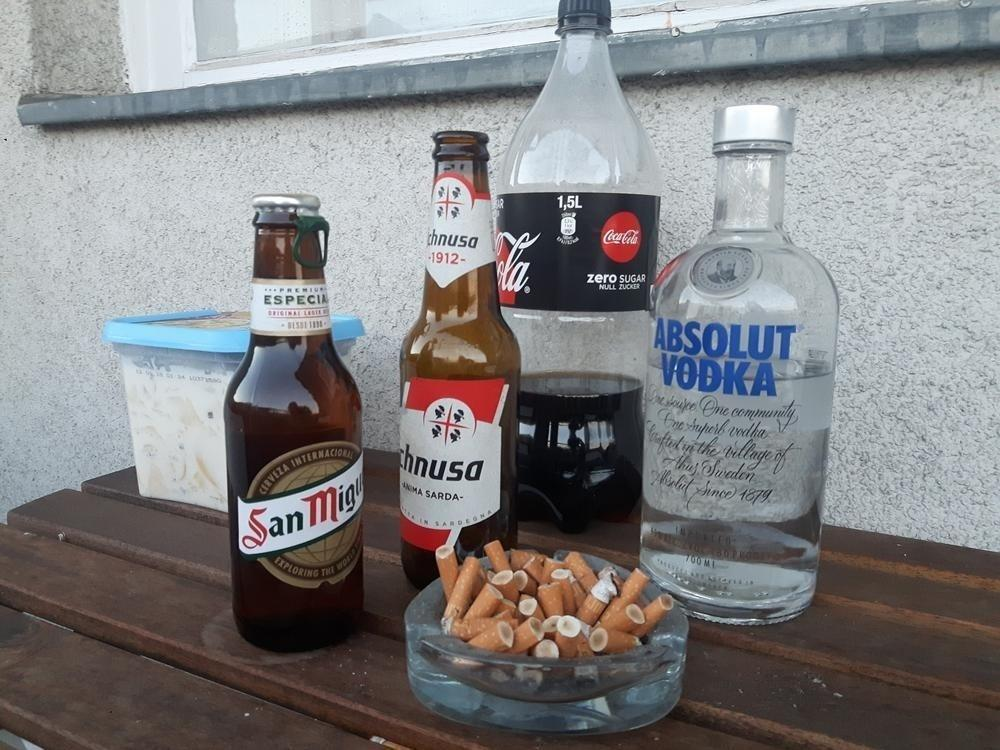bottle-glass: (636, 97, 842, 628), (220, 192, 368, 656), (398, 129, 522, 599)
bottle-plastic: (491, 1, 666, 537)
